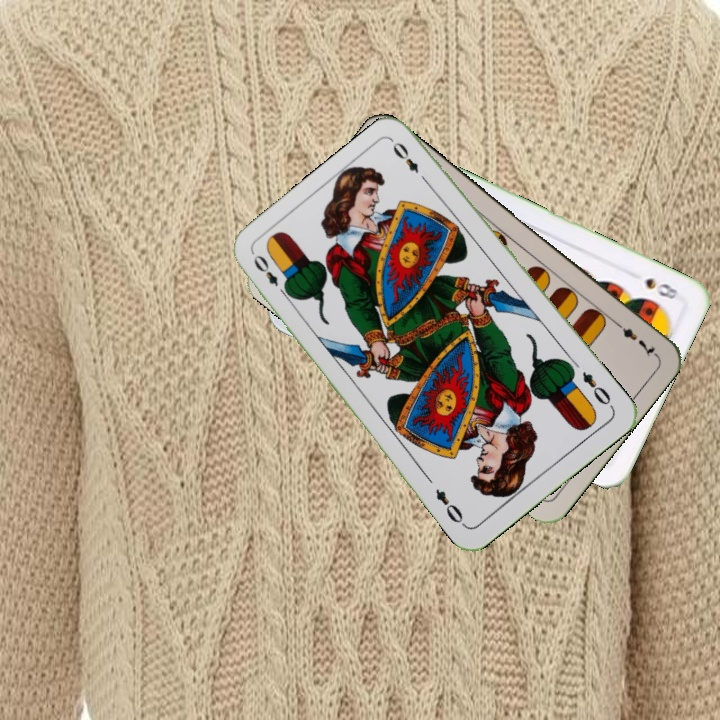E7: (609, 316, 659, 360)
EO: (249, 250, 292, 301), (578, 367, 616, 411)
S8: (641, 273, 681, 302)
